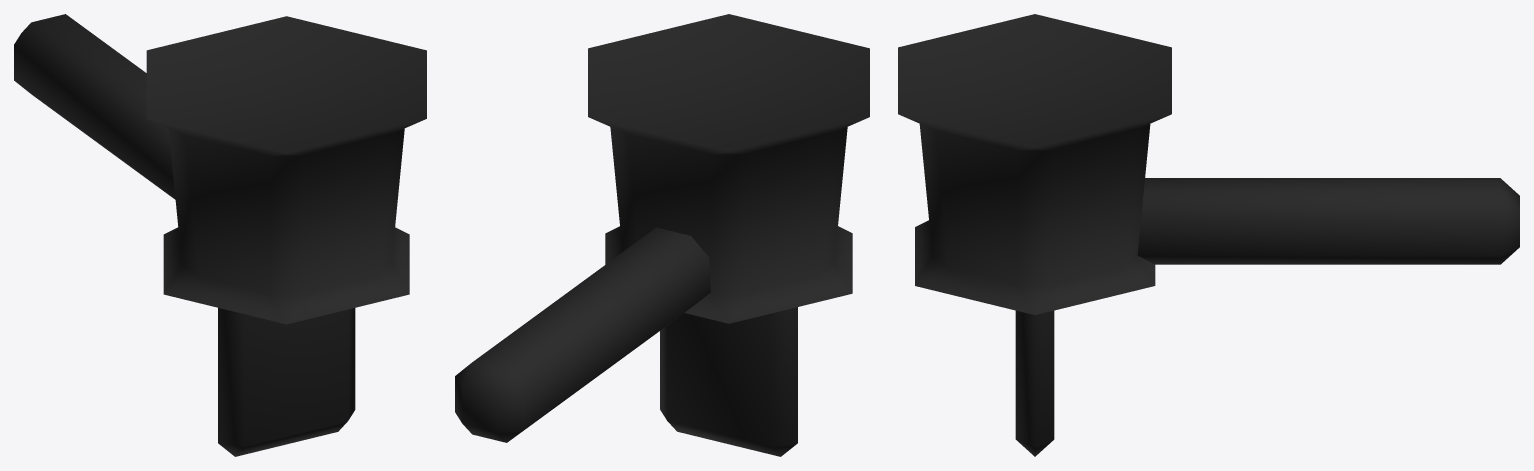
Rendered from iron-torch-holder.glb.
The picture shows the model from 3 angles, left to right: view 1: azimuth 30°, elevation 25°; view 2: azimuth 150°, elevation 25°; view 3: azimuth 270°, elevation 25°; orthographic projection. The views are drawn at different scales.
Parts seen in each view (by area): view 1: iron_torch_holder; view 2: iron_torch_holder; view 3: iron_torch_holder.
Boxes of the visible parts, left/top/right/bottom form: iron_torch_holder: left=14, top=14, right=426, bottom=456; iron_torch_holder: left=455, top=14, right=869, bottom=456; iron_torch_holder: left=898, top=14, right=1519, bottom=456.
Bounding box in the file's own units: 0.1631 × 0.2 × 0.3206.
Materials: 1 (1 with a texture image).
